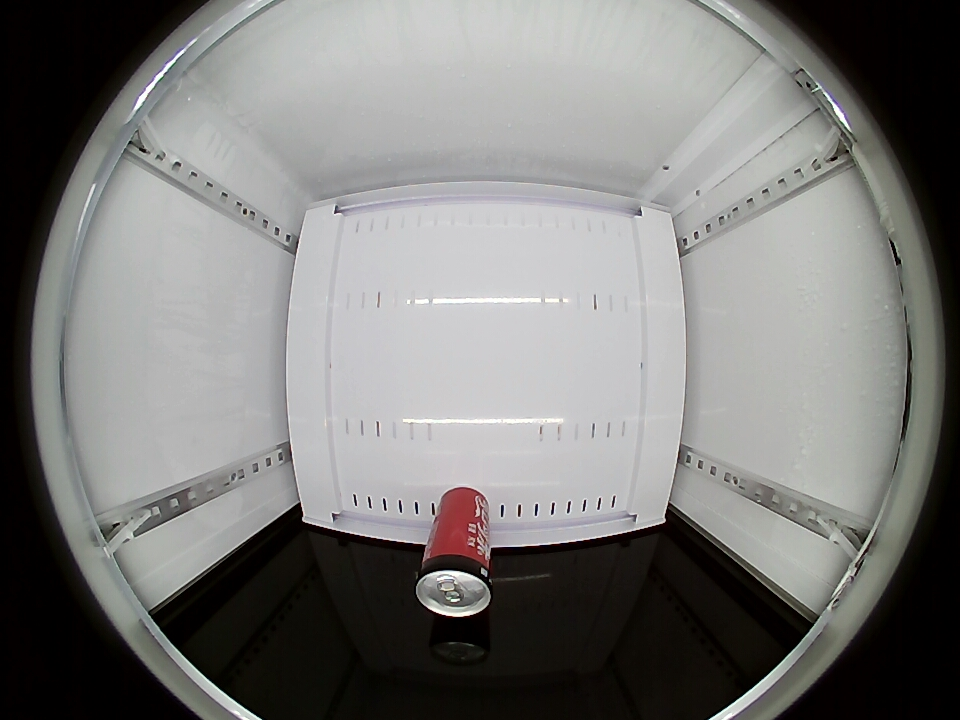lingdukele: (415, 547, 494, 617)
